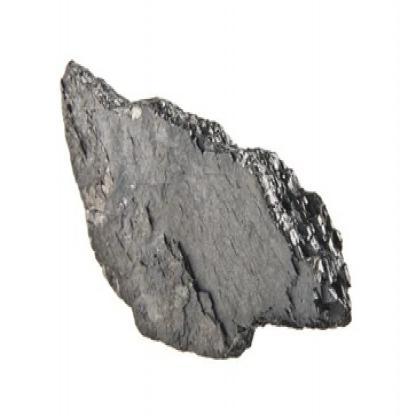Sedimentary_coal: (53, 33, 362, 362)
